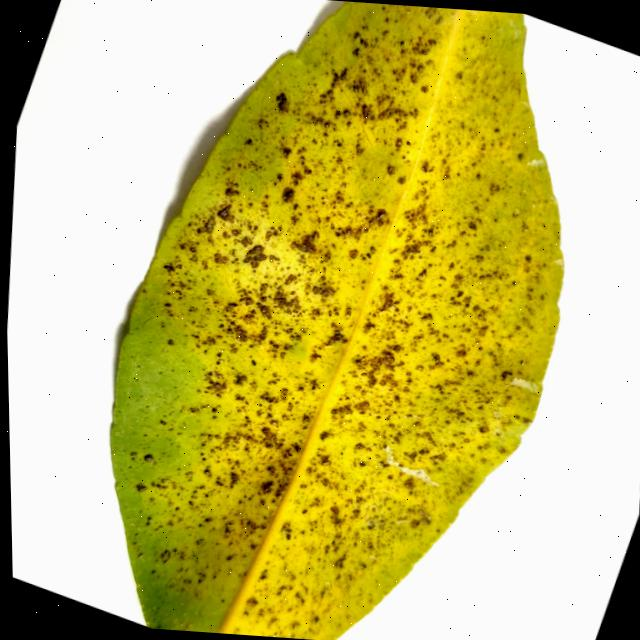melanose: (110, 1, 562, 640)
